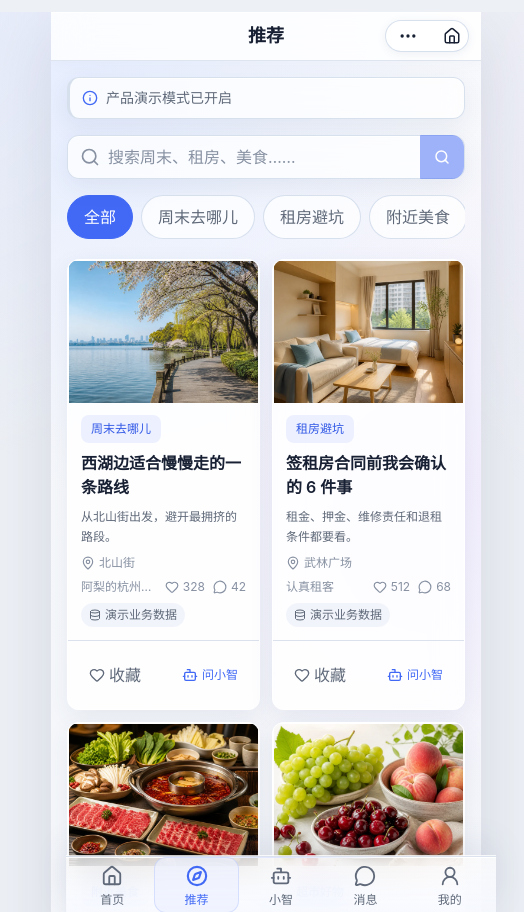
Test: primary product pages › renders and filters the complete community feed
The width and height of the screenshot is (524, 912).
Click the button "租房避坑" at [312, 217], box x1=263 y1=195 x2=361 y2=239
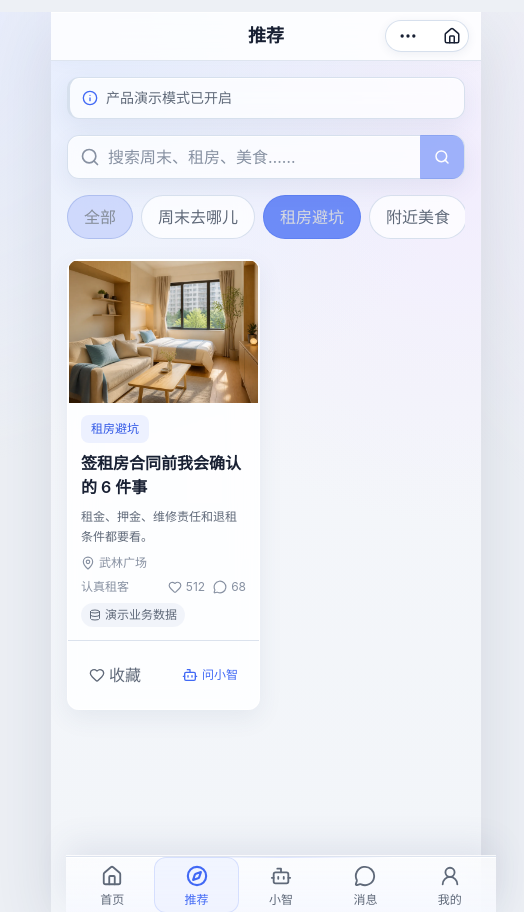
Check: the heading "签租房合同前我会确认的 6 件事" is shown, box x1=81 y1=451 x2=246 y2=499
Click the button with aria-label "收藏 签租房合同" at [115, 675], box x1=80 y1=653 x2=150 y2=697
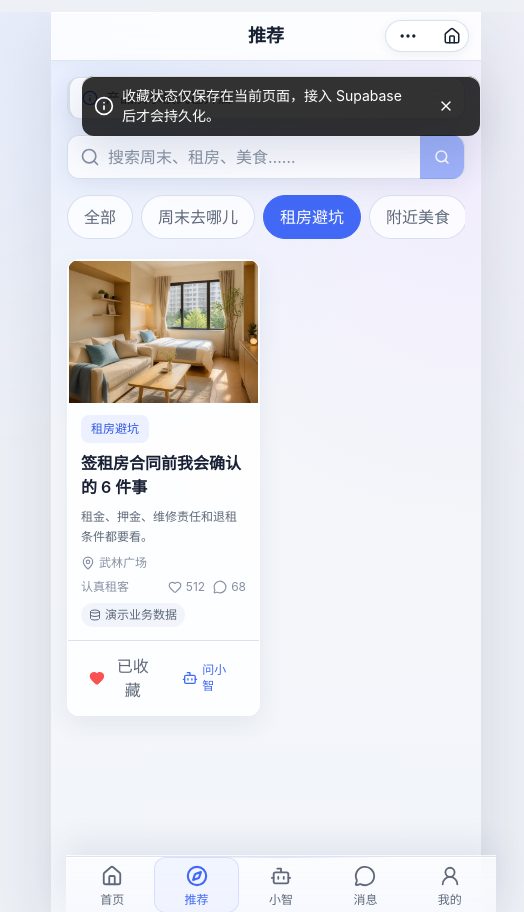
Check: the text "收藏状态仅保存在当前页面，接入 Supabase 后才会持久化。" is shown, box x1=122 y1=86 x2=416 y2=126
